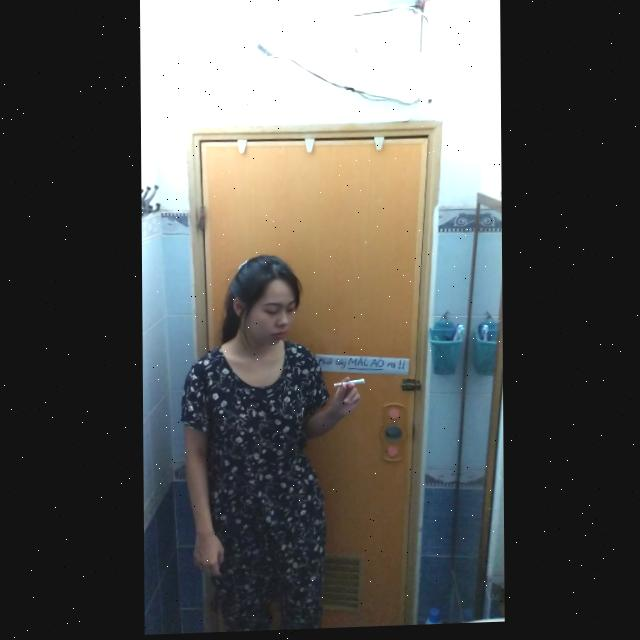cigarette: (334, 380, 365, 389)
